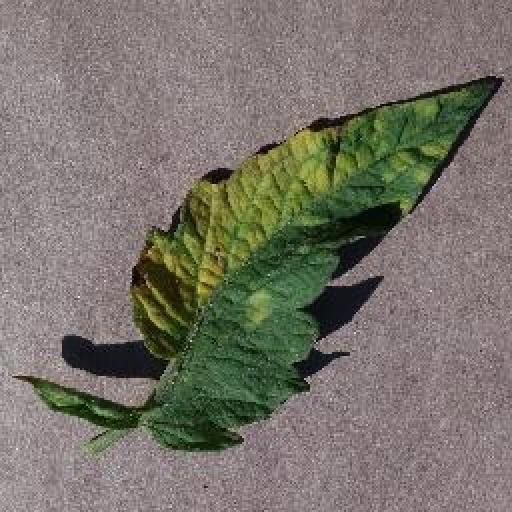disease_tomato: (131, 77, 499, 451)
